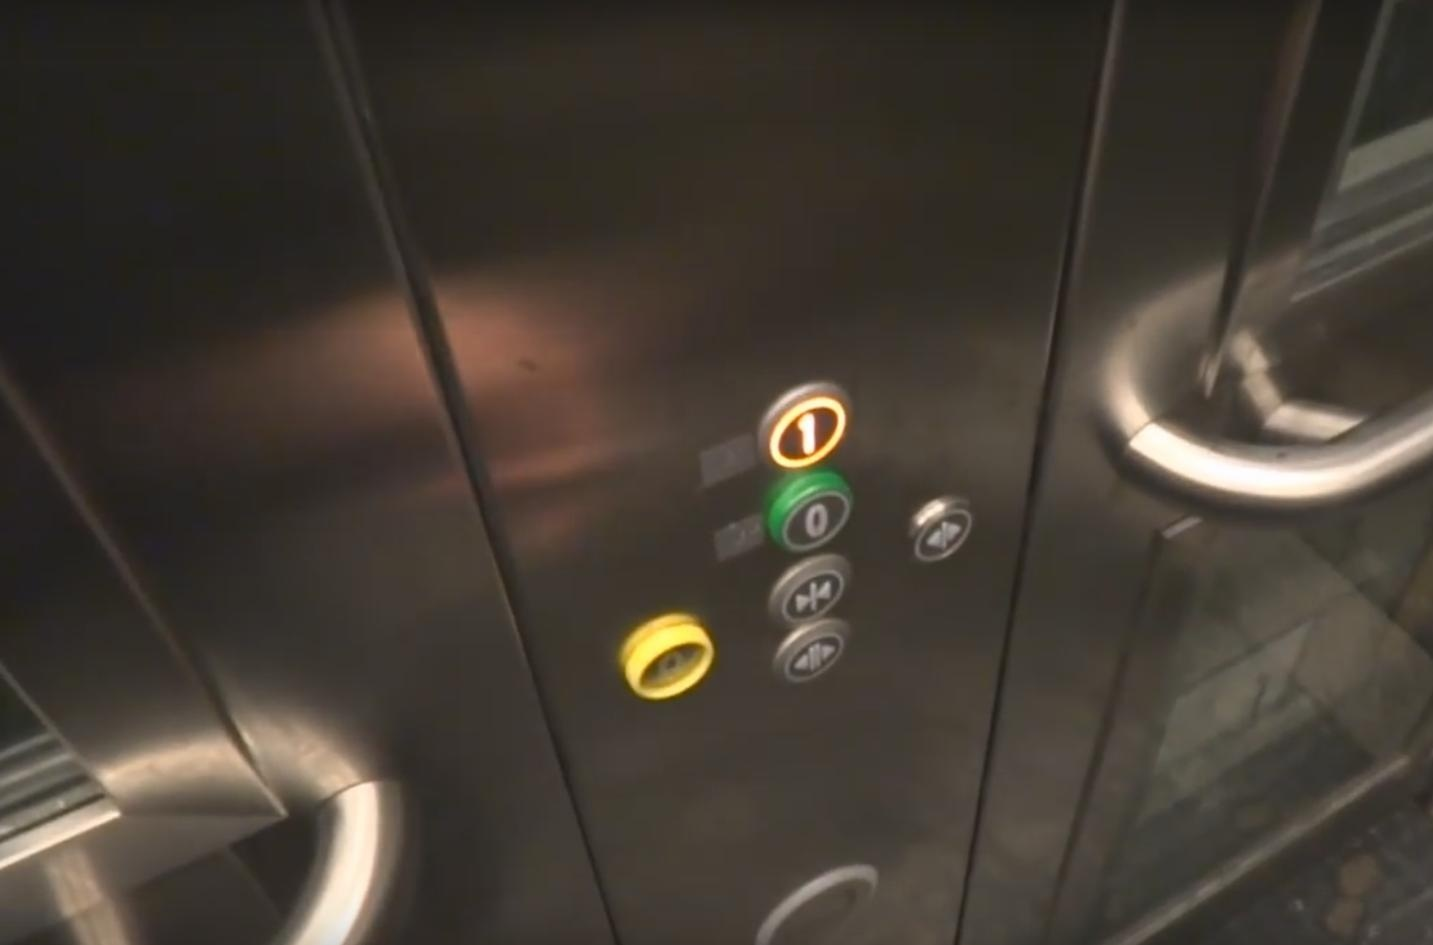0: (766, 472, 852, 554)
1: (752, 379, 853, 472)
alarm: (621, 617, 719, 703)
close: (764, 557, 852, 624)
open: (773, 621, 852, 688), (904, 490, 969, 565)
